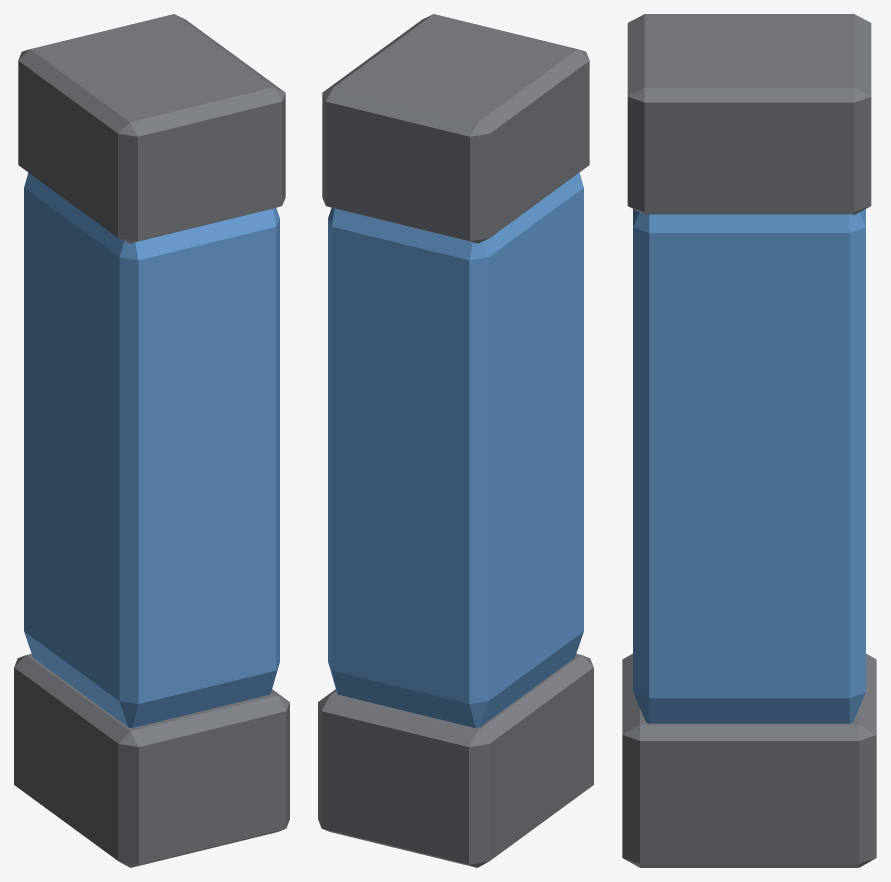
Rendered from b20_fishing_line_recycling_tube.glb.
The picture shows the model from 3 angles, left to right: view 1: azimuth 30°, elevation 25°; view 2: azimuth 150°, elevation 25°; view 3: azimuth 270°, elevation 25°; orthographic projection. The views are drawn at different scales.
Parts seen in each view (by area): view 1: b20_fishing_line_recycling_tube; view 2: b20_fishing_line_recycling_tube; view 3: b20_fishing_line_recycling_tube.
Boxes of the visible parts, x1,y1,x2,y2 form: b20_fishing_line_recycling_tube: (14, 14, 289, 867); b20_fishing_line_recycling_tube: (318, 14, 593, 867); b20_fishing_line_recycling_tube: (622, 14, 876, 867).
Size of the model in its own units: 0.34 by 1.41 by 0.417.
